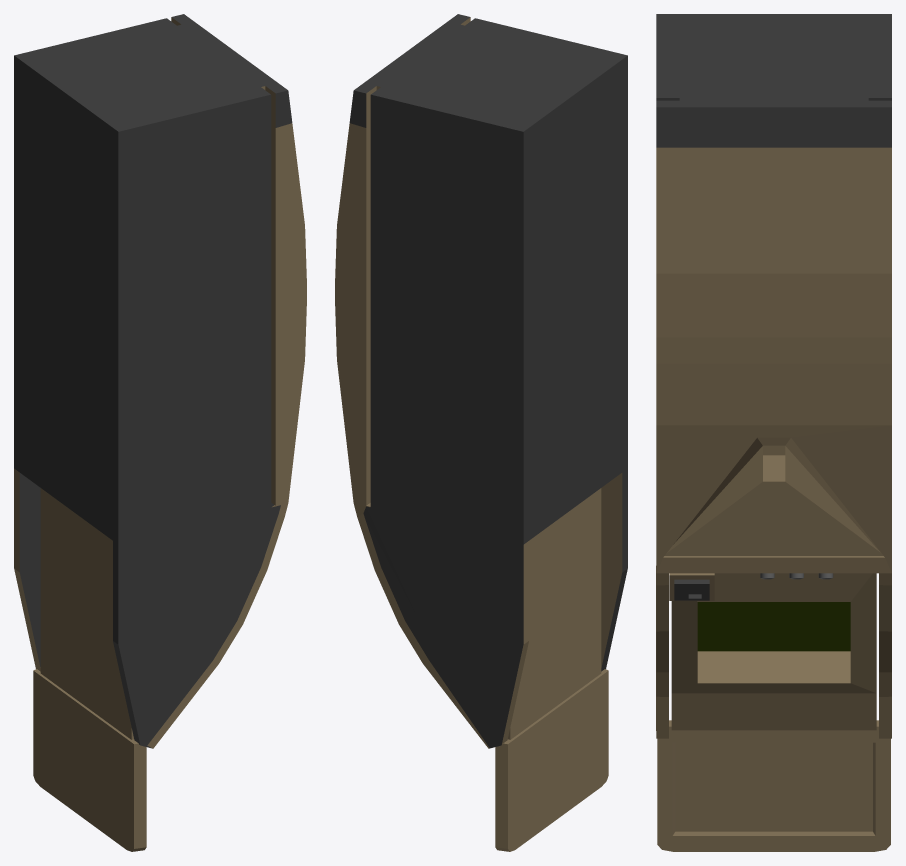
The model's file is atm_machine.fbx.
The picture shows the model from 3 angles, left to right: view 1: azimuth 30°, elevation 25°; view 2: azimuth 150°, elevation 25°; view 3: azimuth 270°, elevation 25°; orthographic projection. The views are drawn at different scales.
Parts seen in each view (by area): view 1: Cube, Cube.001, Cube.003; view 2: Cube, Cube.001, Cube.003; view 3: Cube, Cube.001, Cube.003.
Part boxes in pixels (x1=…): Cube: x1=14, y1=14, x2=306, y2=748; Cube.001: x1=40, y1=488, x2=133, y2=739; Cube.003: x1=33, y1=669, x2=146, y2=851; Cube: x1=335, y1=14, x2=627, y2=748; Cube.001: x1=508, y1=488, x2=601, y2=739; Cube.003: x1=495, y1=669, x2=608, y2=851; Cube: x1=656, y1=14, x2=891, y2=738; Cube.001: x1=671, y1=573, x2=876, y2=730; Cube.003: x1=657, y1=720, x2=890, y2=851.
Size of the model in its own units: 247 by 913 by 237.
